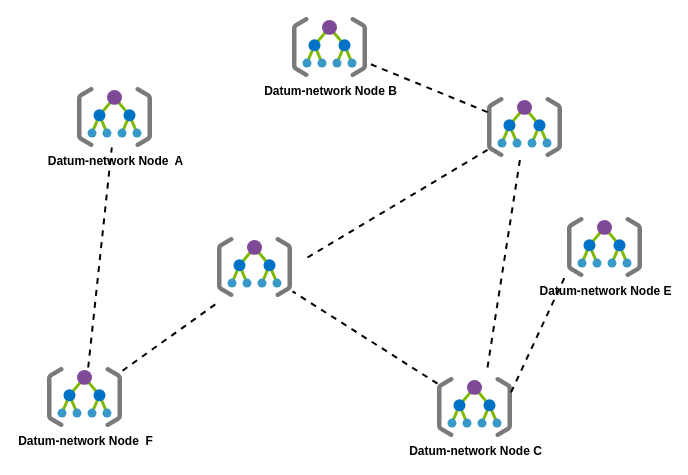
This 688x475 diagram has some shape labels left out. Here are the shapes that lost their labels. From the top down, the centre of each, then its label:
At [524,127]: "Datum-network Node G".
At [254,267]: "Datum-network Node H".
